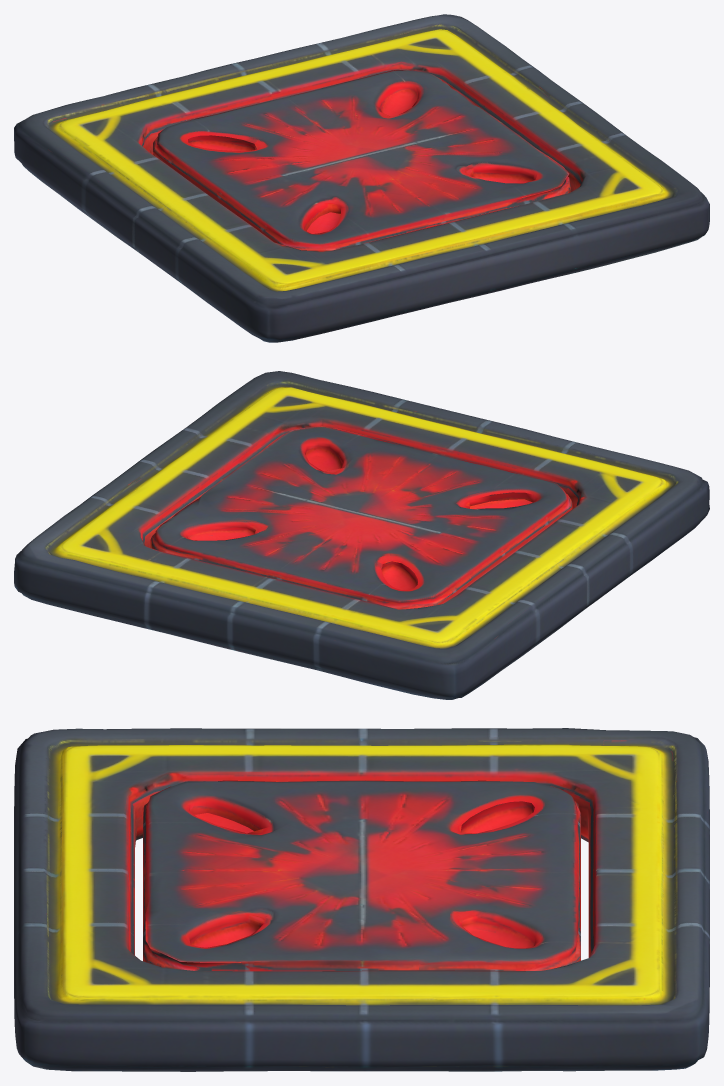
The model's file is Neon_Spike_Floor_Tile_0926200237_texture.fbx.
The picture shows the model from 3 angles, top to bottom: view 1: azimuth 30°, elevation 25°; view 2: azimuth 150°, elevation 25°; view 3: azimuth 270°, elevation 25°; orthographic projection. The views are drawn at different scales.
Visible parts, largest first — view 1: Mesh0; view 2: Mesh0; view 3: Mesh0.
Boxes of the visible parts, x1,y1,x2,y2 form: Mesh0: (14, 14, 709, 342); Mesh0: (14, 371, 709, 699); Mesh0: (14, 728, 709, 1071).
Size of the model in its own units: 191 by 18.06 by 191.
1 material, 1 textured.
